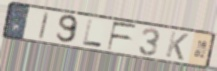3: (138, 27, 161, 56)
9: (55, 14, 80, 45)
F: (106, 21, 138, 52)
I: (37, 11, 51, 41)
K: (164, 30, 191, 62)
L: (81, 18, 104, 48)
